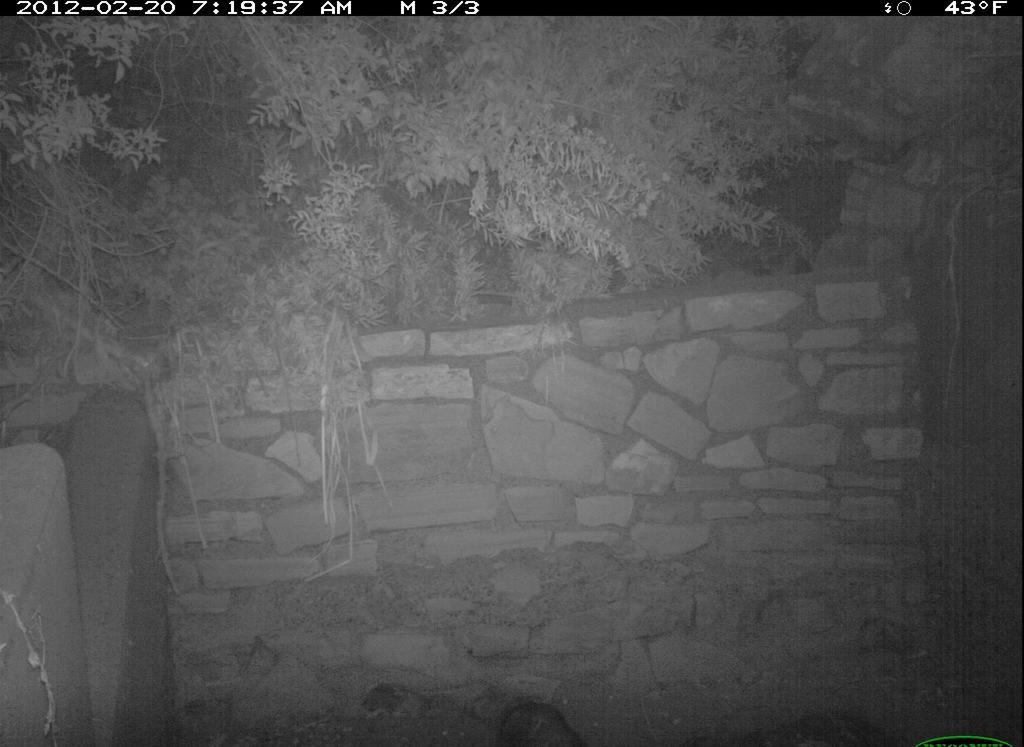raccoon: (487, 692, 600, 747)
